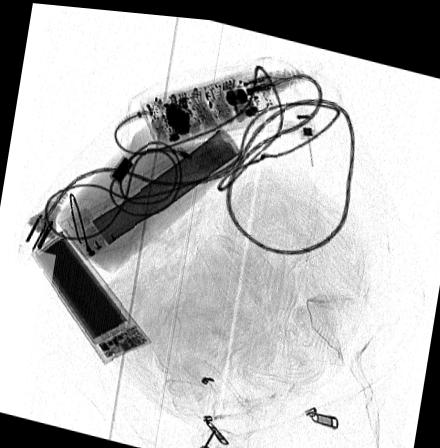Powerbank: (29, 225, 153, 364)
